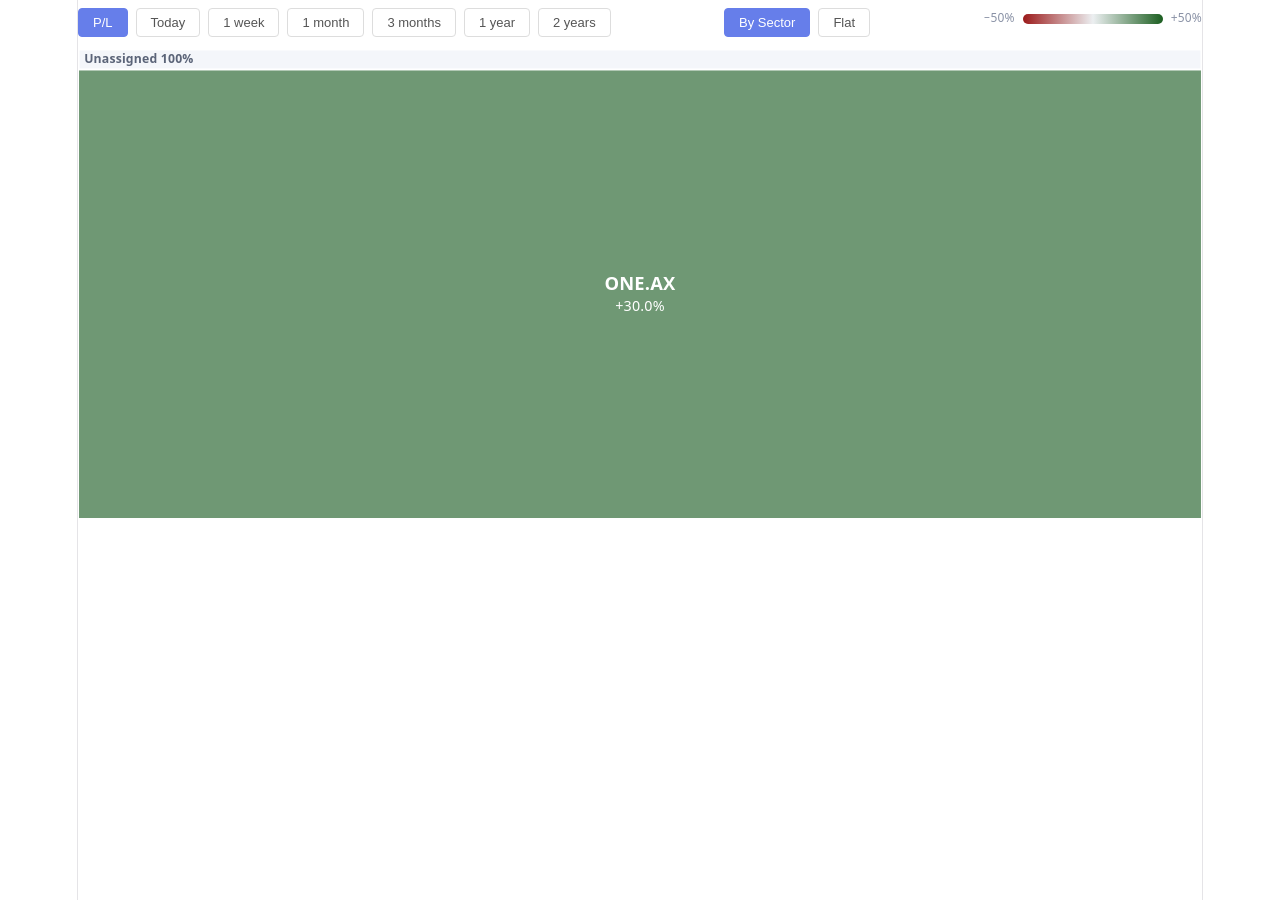
Test case: HoldingsHeatMap › switches the printed figure between total and today
Expected: the text "+30.0%" is shown, [615,296,665,315]
Click the button "Today": (168, 22) [136,8,200,37]
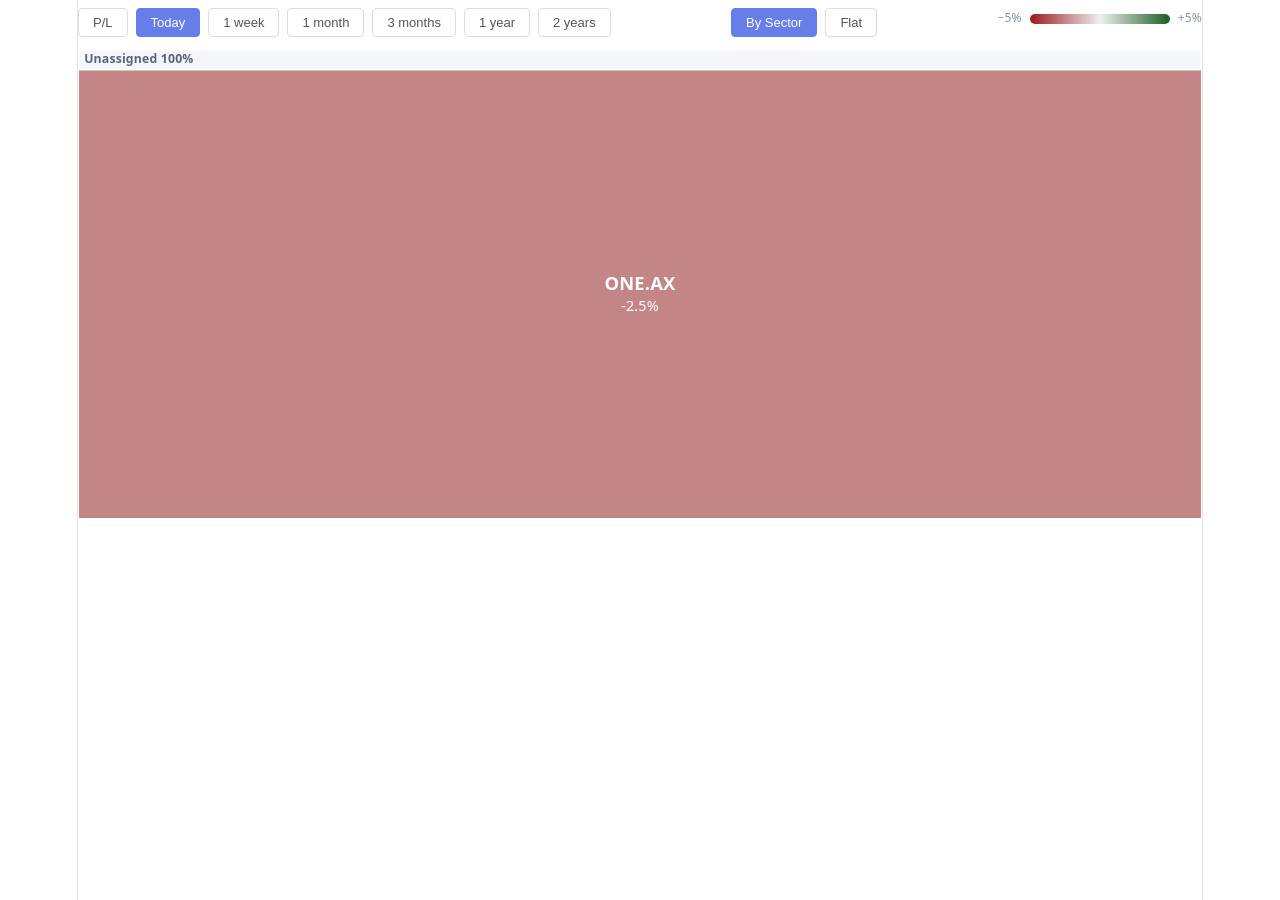
Expected: the text "-2.5%" is shown, [621,296,659,315]
Expected: the picture "+30.0%" is gone
